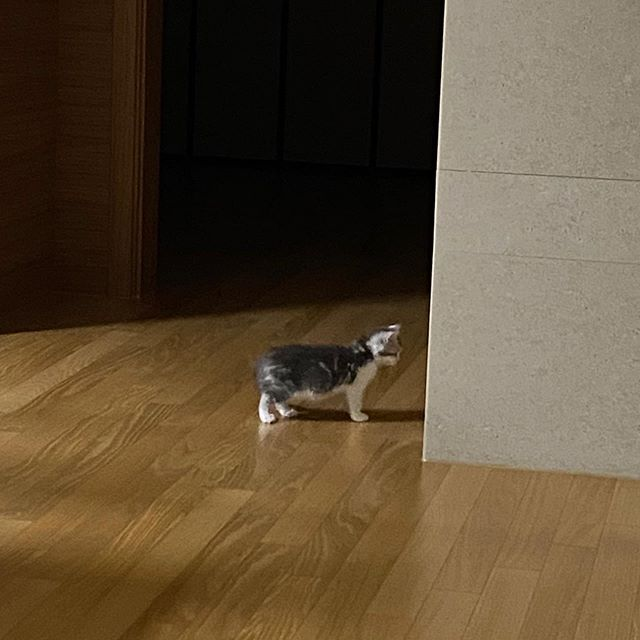cat: (365, 319, 406, 376)
